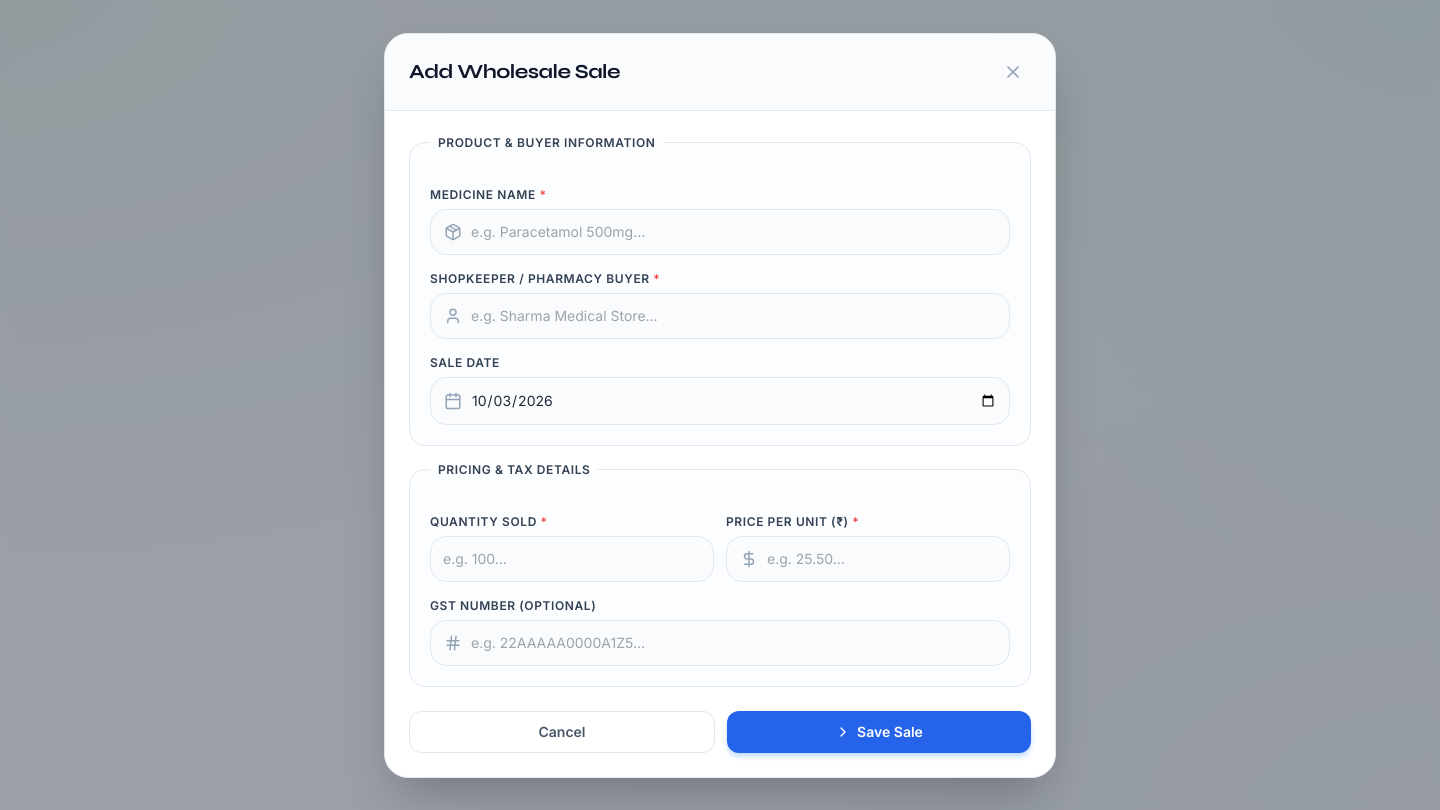
Test case: components/suppliers/WholesaleSaleModal.jsx › auto-fetches price per unit when a medicine is selected from inventory suggestions
Type "Para" into the field labelled "Medicine Name *" at (720, 232), box x1=430 y1=208 x2=1010 y2=254
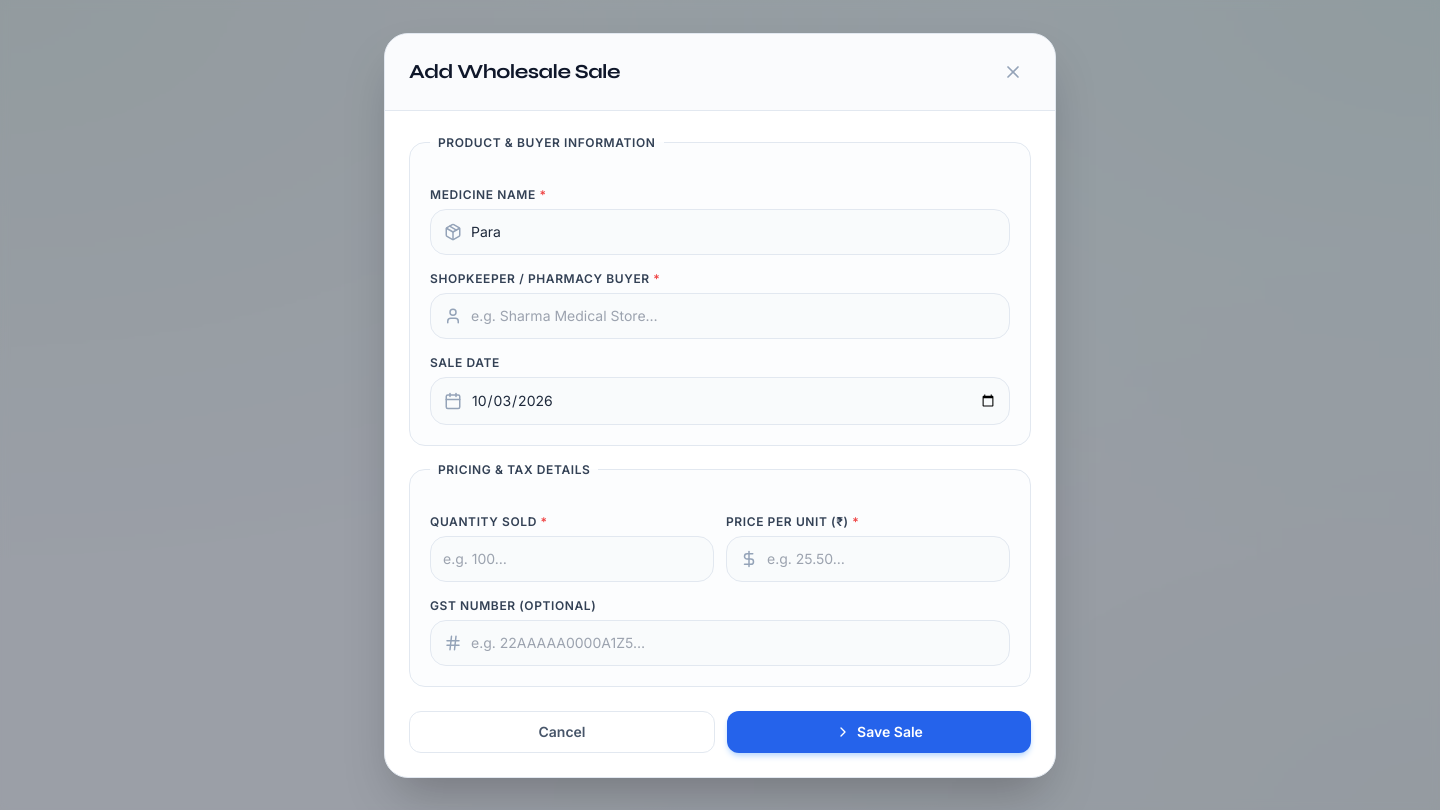
Focus the field labelled "Medicine Name *" at (720, 232), box x1=430 y1=208 x2=1010 y2=254
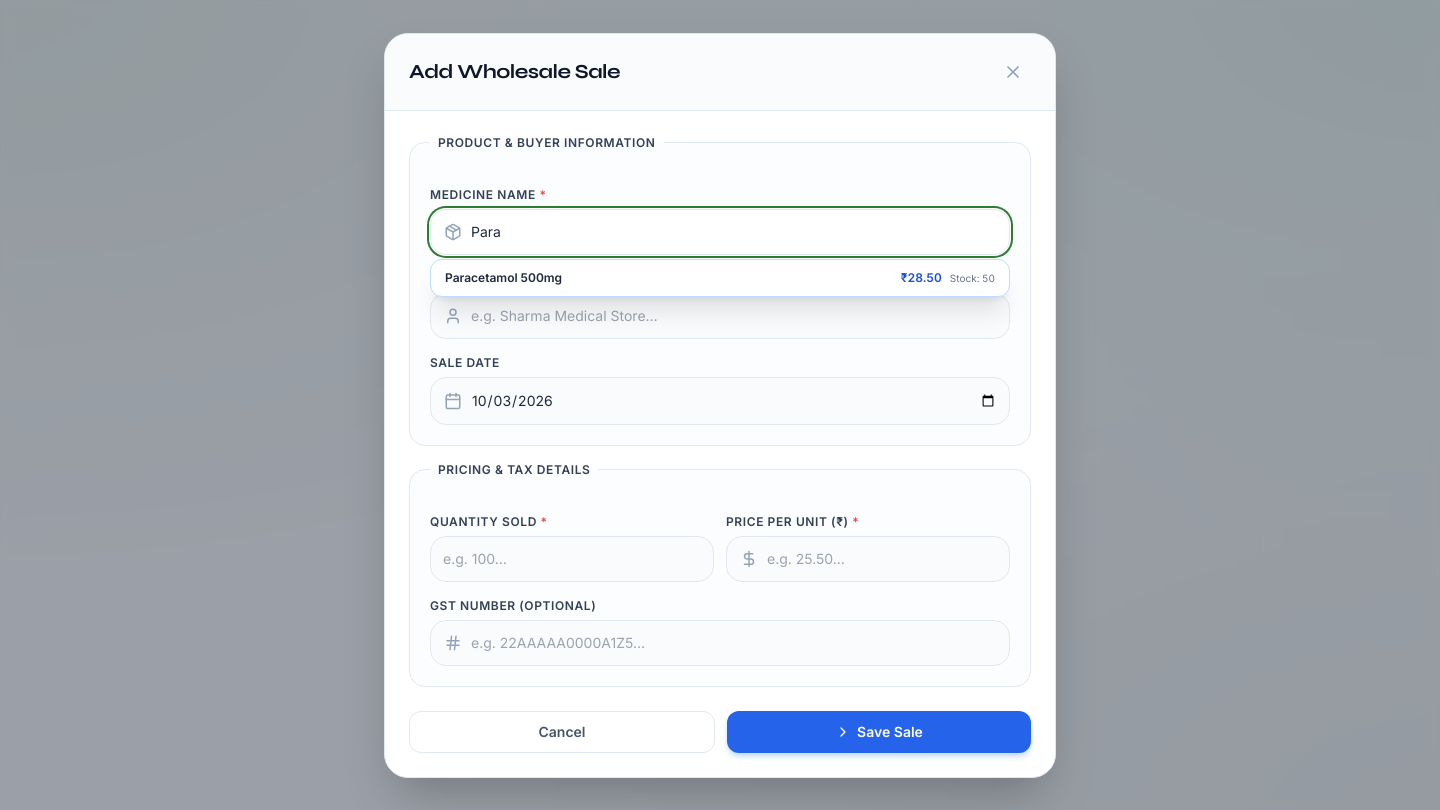
expect the list is shown: met
expect the option shows "Paracetamol 500mg": met
expect the option shows "₹28.50": met
Press the mouse on the option "Paracetamol 500mg ₹28.50 Stock: 50" at (504, 277), box x1=431 y1=260 x2=1009 y2=296
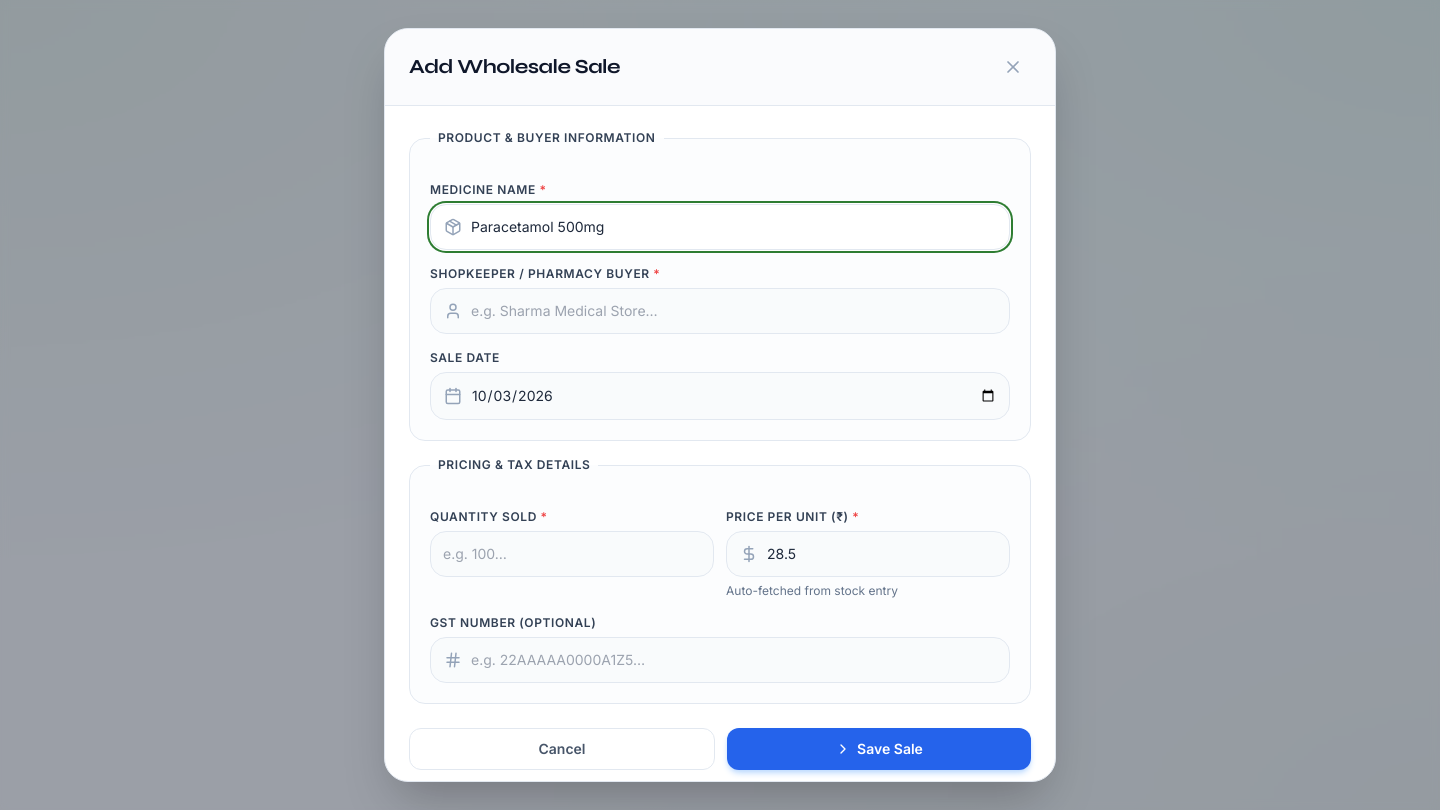
expect the number field labelled "Price Per Unit (₹) *" holds "28.5": met, box x1=726 y1=531 x2=1010 y2=577
expect the text "Auto-fetched from stock entry" is shown: met, box x1=726 y1=583 x2=898 y2=598
